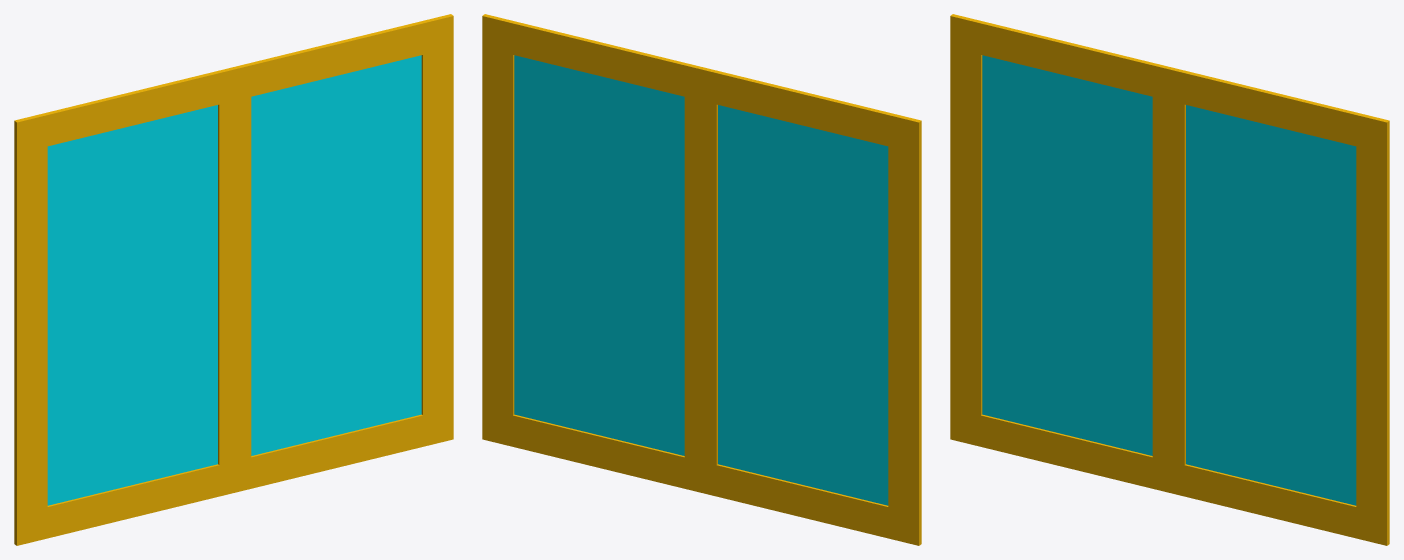
File: window.glb
The picture shows the model from 3 angles, left to right: view 1: azimuth 30°, elevation 25°; view 2: azimuth 150°, elevation 25°; view 3: azimuth 330°, elevation 25°; orthographic projection.
Parts seen in each view (by area): view 1: window, window.001; view 2: window, window.001; view 3: window.001, window.
Part boxes in pixels (x1=…): window: x1=218, y1=14, x2=453, y2=495; window.001: x1=14, y1=64, x2=249, y2=545; window: x1=482, y1=14, x2=717, y2=495; window.001: x1=686, y1=64, x2=921, y2=545; window.001: x1=950, y1=14, x2=1185, y2=495; window: x1=1154, y1=66, x2=1389, y2=545.
Size of the model in its own units: 2.29 by 2.12 by 0.0246.
